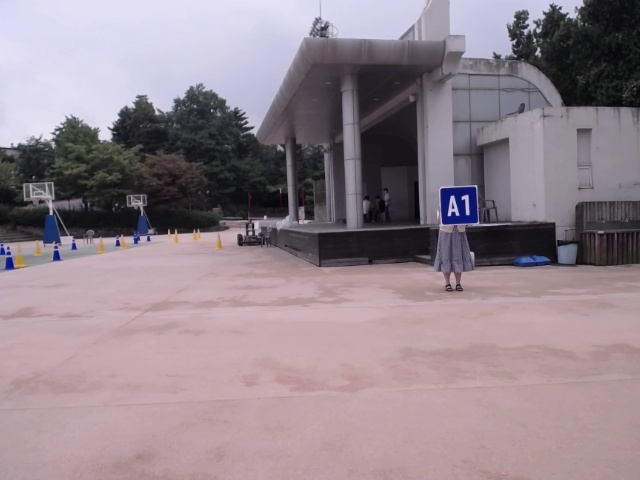delivery_a1: (439, 186, 479, 226)
